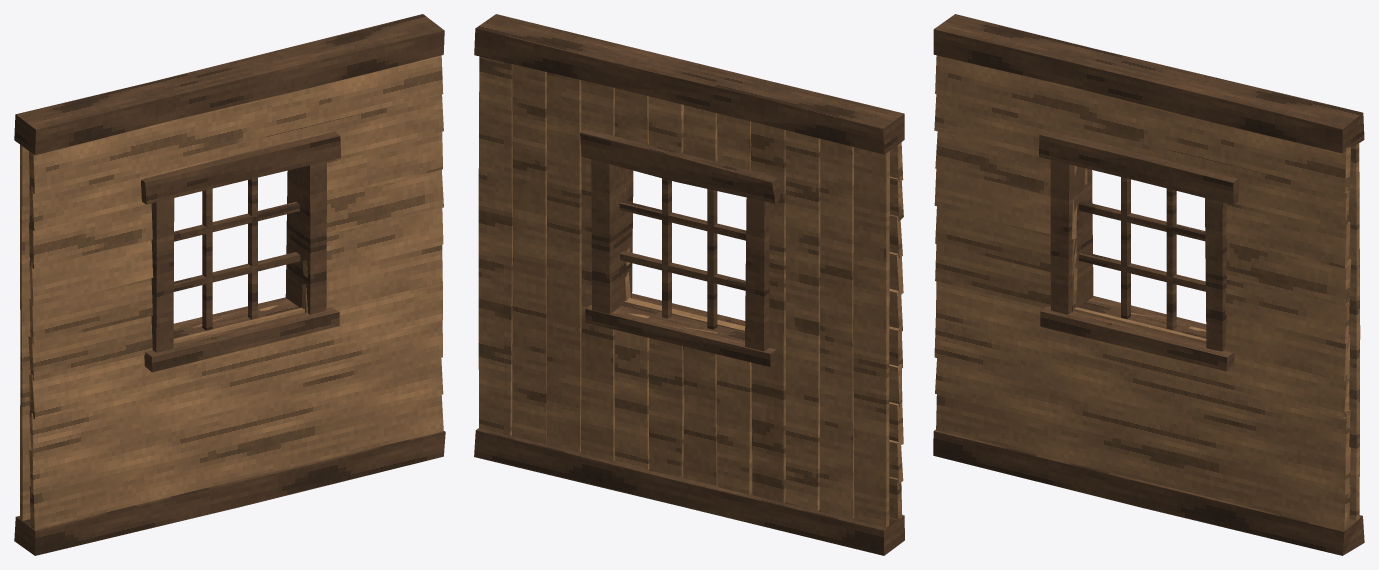
Rendered from parede_janela.glb.
The picture shows the model from 3 angles, left to right: view 1: azimuth 30°, elevation 25°; view 2: azimuth 150°, elevation 25°; view 3: azimuth 330°, elevation 25°; orthographic projection.
Visible parts, largest first — view 1: parede_janela_madeira, parede_janela_madeira_escura; view 2: parede_janela_madeira, parede_janela_madeira_escura; view 3: parede_janela_madeira, parede_janela_madeira_escura.
Part boxes in pixels (x1=…): parede_janela_madeira: x1=20, y1=55, x2=443, y2=529; parede_janela_madeira_escura: x1=14, y1=14, x2=445, y2=555; parede_janela_madeira: x1=478, y1=56, x2=903, y2=527; parede_janela_madeira_escura: x1=474, y1=14, x2=904, y2=555; parede_janela_madeira: x1=934, y1=55, x2=1360, y2=530; parede_janela_madeira_escura: x1=933, y1=14, x2=1364, y2=555.
Size of the model in its own units: 3.01 by 3.01 by 0.3702.
Materials: 2 (2 with a texture image).
